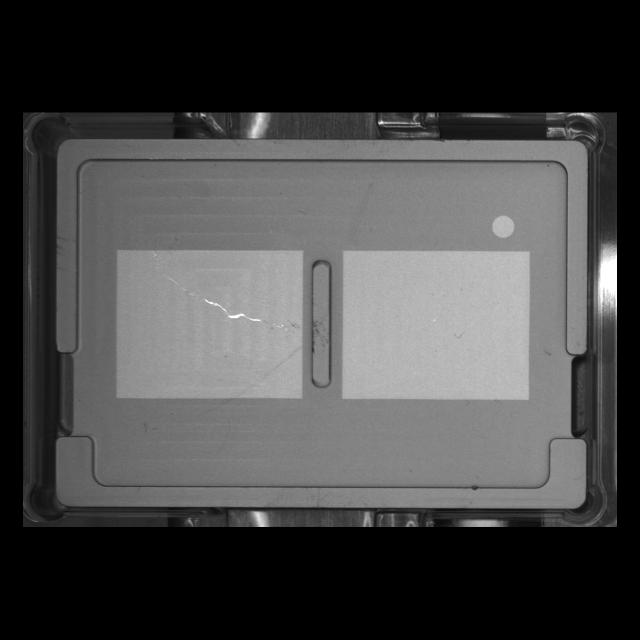door: (38, 422, 601, 520)
point: (482, 206, 520, 246)
